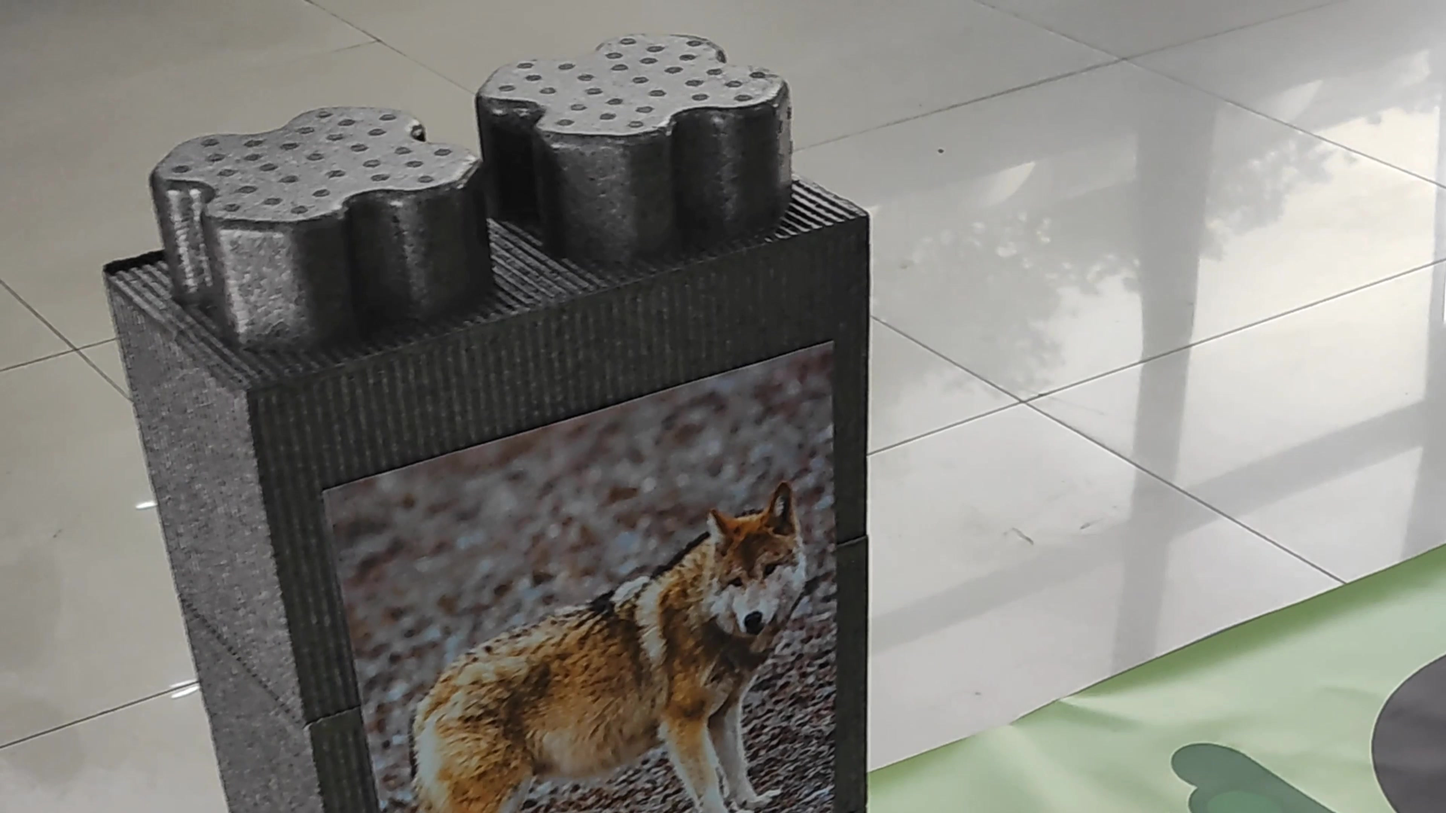wolf: (363, 467, 830, 799)
